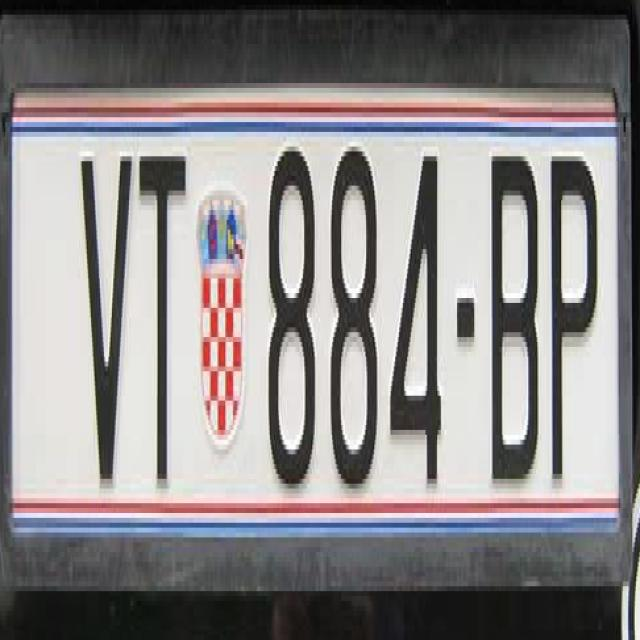Autre: (13, 99, 621, 520)
